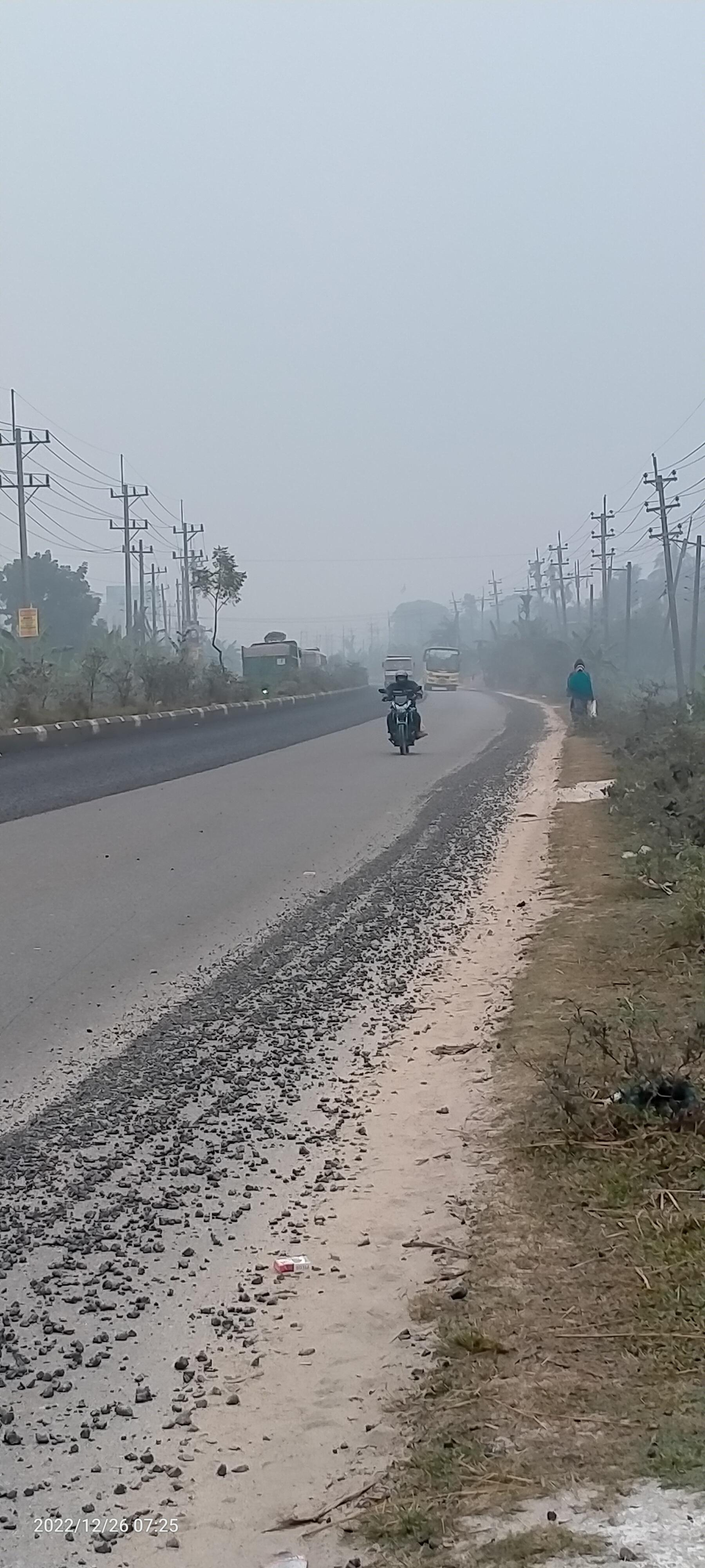Bike: (375, 658, 426, 766), (413, 630, 470, 699)
Truck: (235, 617, 313, 704), (378, 649, 424, 687)
